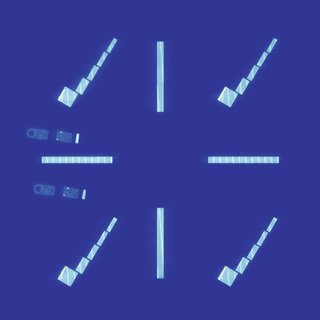overheated: (60, 265, 67, 273), (221, 265, 227, 274), (221, 86, 227, 93)
